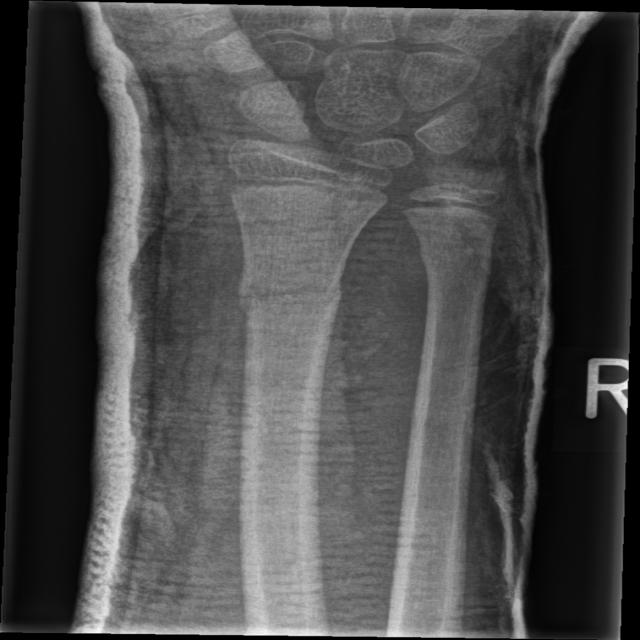radius fracture: (238, 242, 348, 367)
